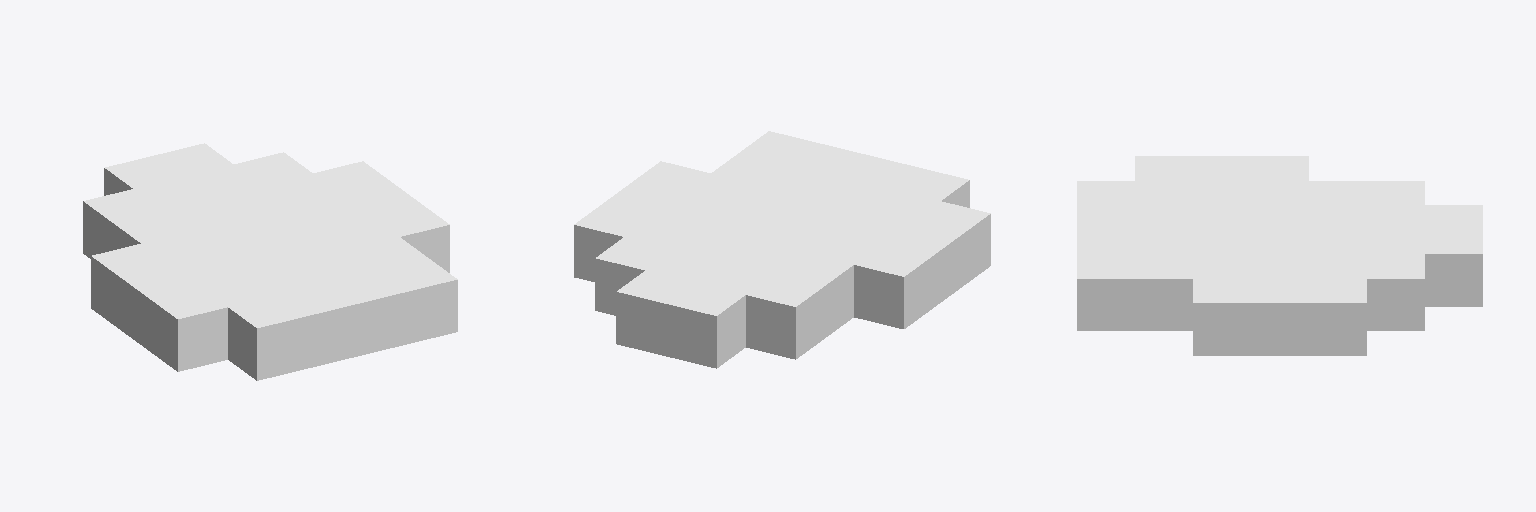
File: Mini_Void.obj
3 renders of one model, left to right at view 1: azimuth 30°, elevation 25°; view 2: azimuth 150°, elevation 25°; view 3: azimuth 270°, elevation 25°, orthographic.
Visible parts, largest first — view 1: object 1; view 2: object 1; view 3: object 1.
Boxes of the visible parts, <box> form: object 1: <box>83,143,457,380</box>; object 1: <box>574,131,990,368</box>; object 1: <box>1077,156,1482,355</box>.
Size of the model in its own units: 0.6 by 0.1 by 0.7.